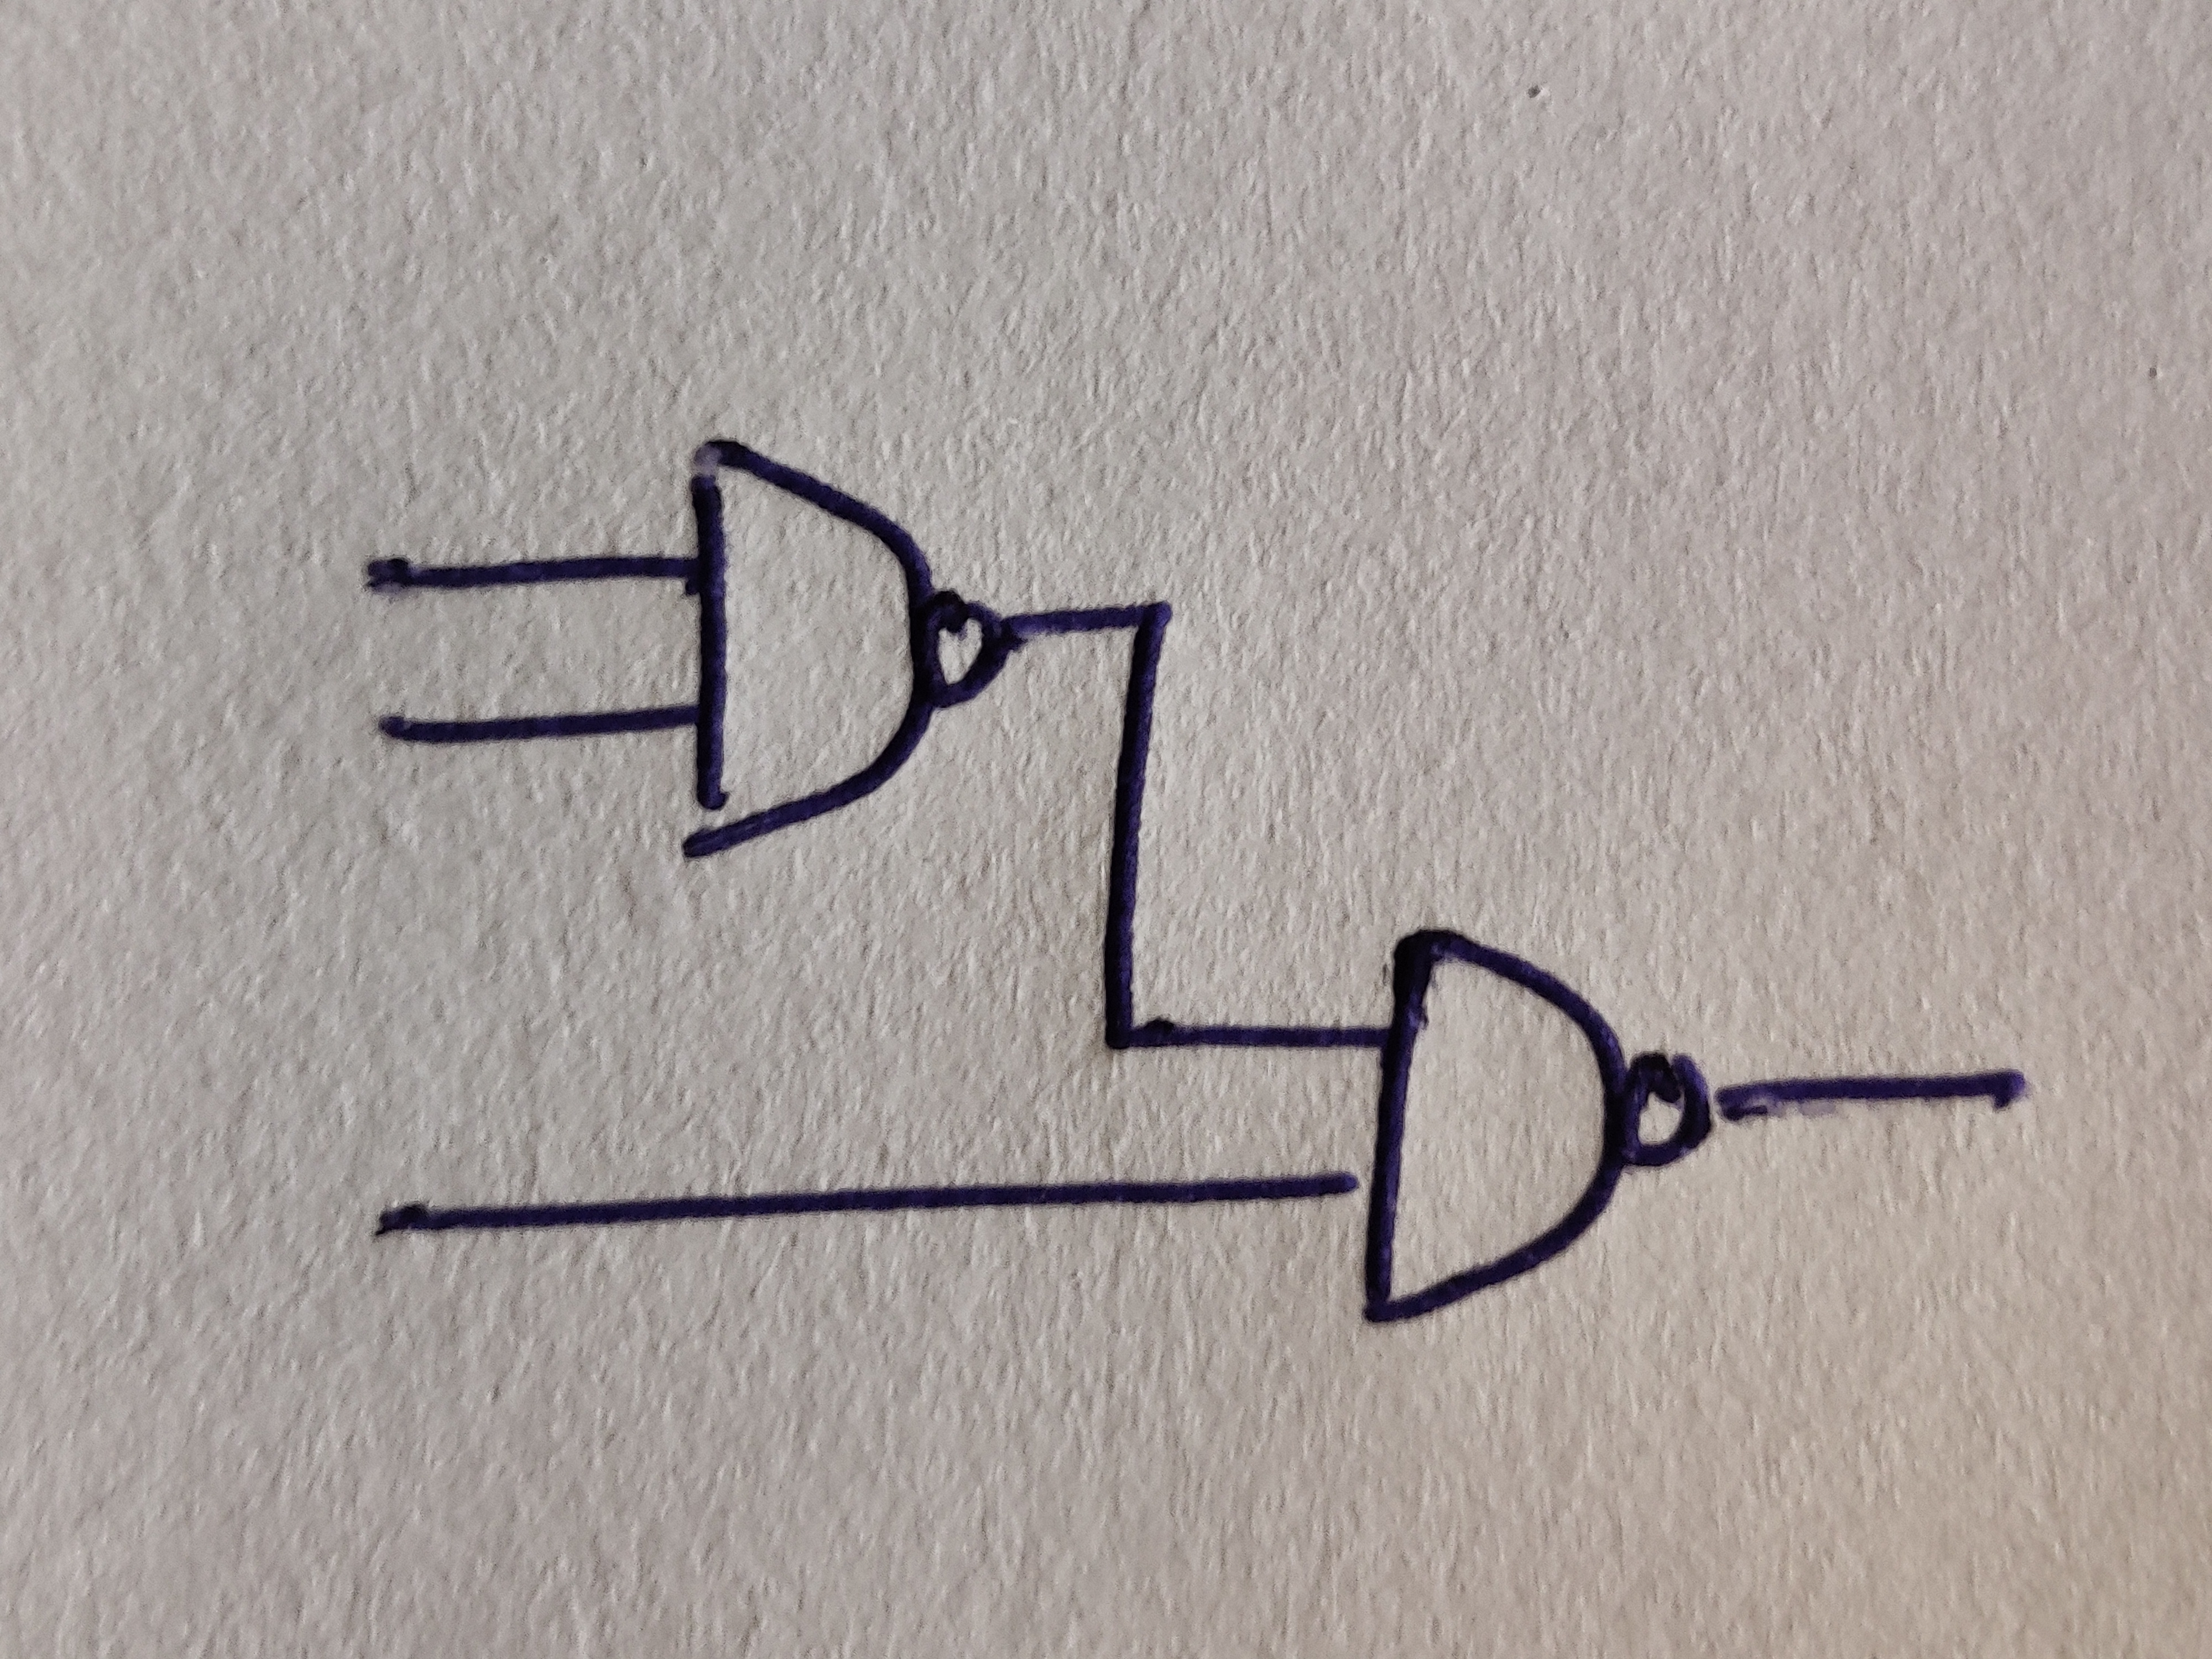and: (1364, 931, 1627, 1326), (681, 441, 928, 857)
not: (1623, 1053, 1710, 1166), (925, 591, 1005, 709)
